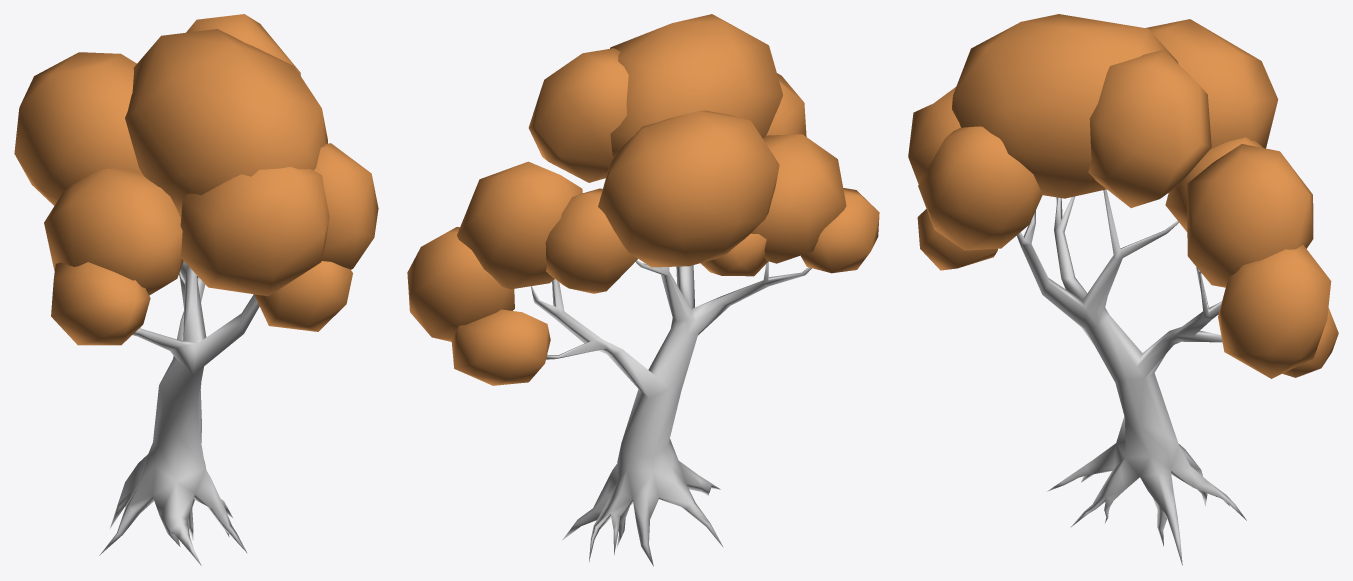
File: Tree2.fbx
3 views of the same model, side by side, from view 1: azimuth 30°, elevation 25°; view 2: azimuth 150°, elevation 25°; view 3: azimuth 270°, elevation 25° (orthographic). The views are drawn at different scales.
Parts seen in each view (by area): view 1: Sphere, Cylinder; view 2: Sphere, Cylinder; view 3: Sphere, Cylinder.
Boxes of the visible parts, left/top/right/bottom form: Sphere: left=14, top=14, right=378, bottom=345; Cylinder: left=99, top=261, right=259, bottom=565; Sphere: left=407, top=14, right=879, bottom=385; Cylinder: left=531, top=260, right=811, bottom=566; Sphere: left=908, top=14, right=1338, bottom=378; Cylinder: left=1016, top=189, right=1246, bottom=565.
Bounding box in the file's own units: 737 × 1018 × 772.
